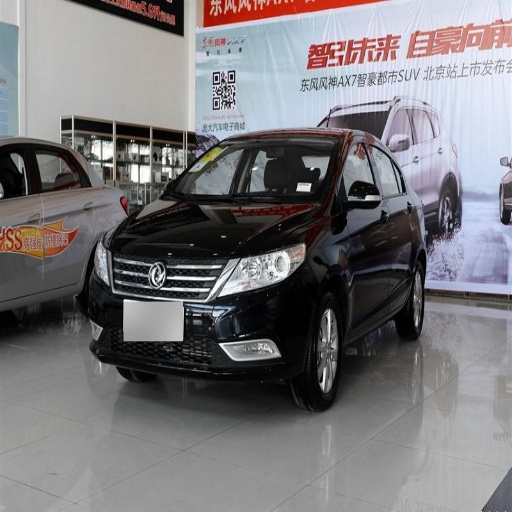front_bumper: (90, 241, 315, 380)
front_glass: (162, 136, 336, 202)
front_left_door: (336, 134, 387, 328), (4, 235, 41, 281)
